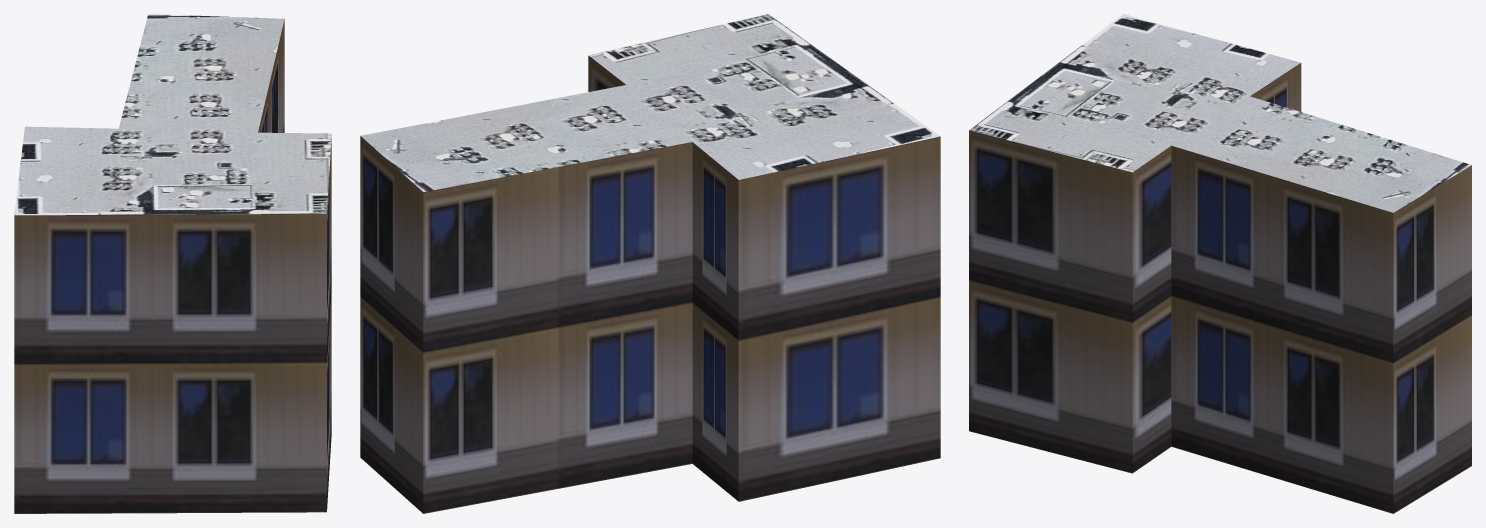
Rendered from ResTex__4387.fbx.
3 renders of one model, left to right at view 1: azimuth 30°, elevation 25°; view 2: azimuth 150°, elevation 25°; view 3: azimuth 270°, elevation 25°, orthographic. The views are drawn at different scales.
Visible parts, largest first — view 1: CityEngineMaterial_5_m, CityEngineMaterial_m; view 2: CityEngineMaterial_5_m, CityEngineMaterial_m; view 3: CityEngineMaterial_5_m, CityEngineMaterial_m.
Boxes of the visible parts, <box> form: CityEngineMaterial_5_m: <box>14,19,331,513</box>; CityEngineMaterial_m: <box>14,14,331,215</box>; CityEngineMaterial_5_m: <box>360,55,940,513</box>; CityEngineMaterial_m: <box>360,14,940,191</box>; CityEngineMaterial_5_m: <box>969,63,1471,513</box>; CityEngineMaterial_m: <box>969,14,1471,212</box>.
Size of the model in its own units: 8.5 by 6 by 9.08.
2 materials, 2 textured.
